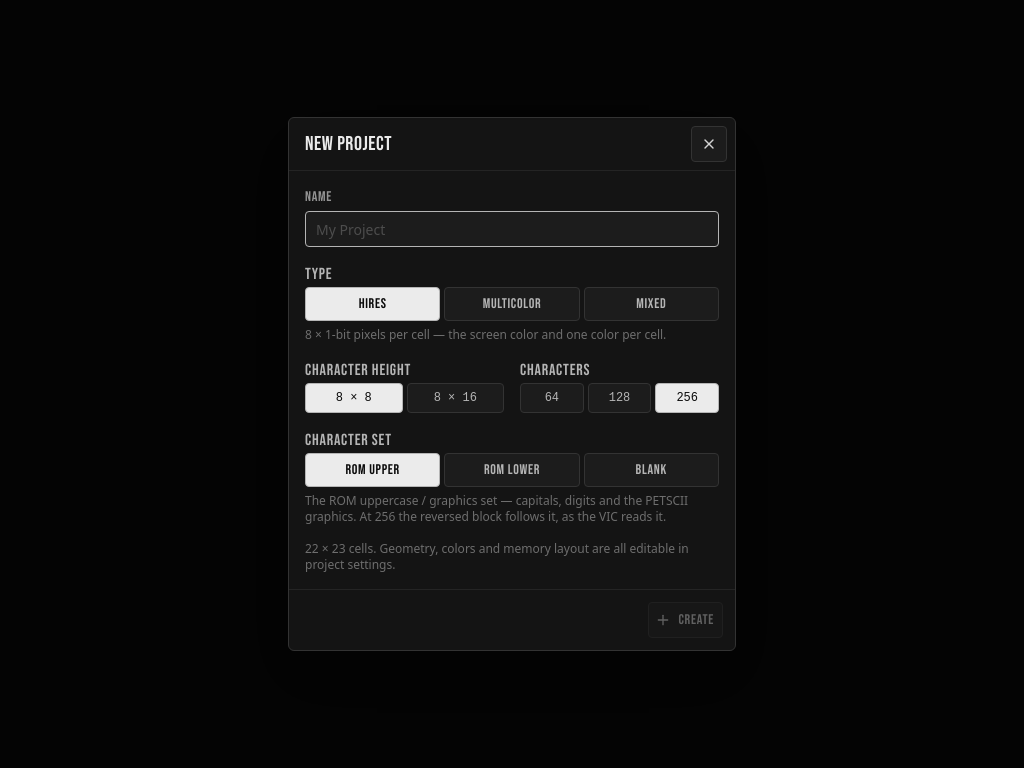
it: NewProjectDialog › explains that 256 characters is the set plus its reversed block (D16a)
The width and height of the screenshot is (1024, 768).
Click the radio button labelled "128" at (620, 398), box x1=588 y1=383 x2=651 y2=413
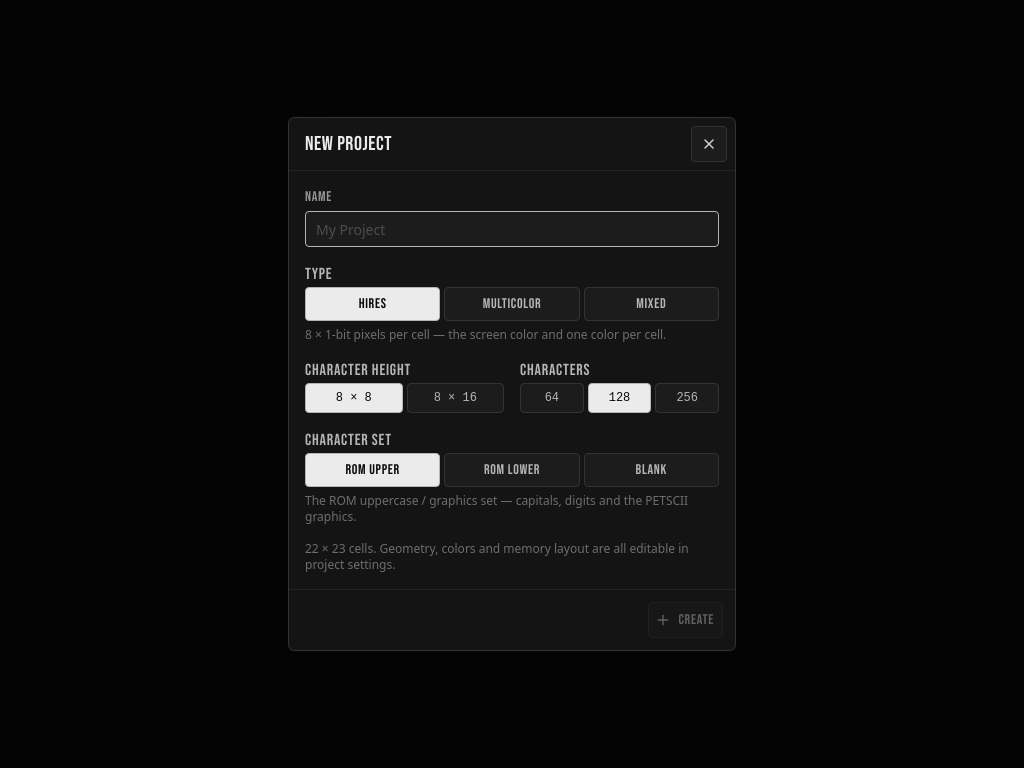
Expected: the text "reversed block" is gone
